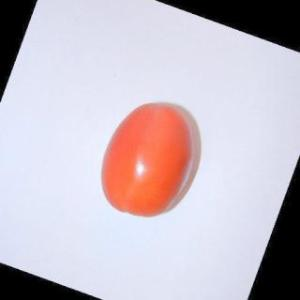tomato: (94, 98, 202, 224)
